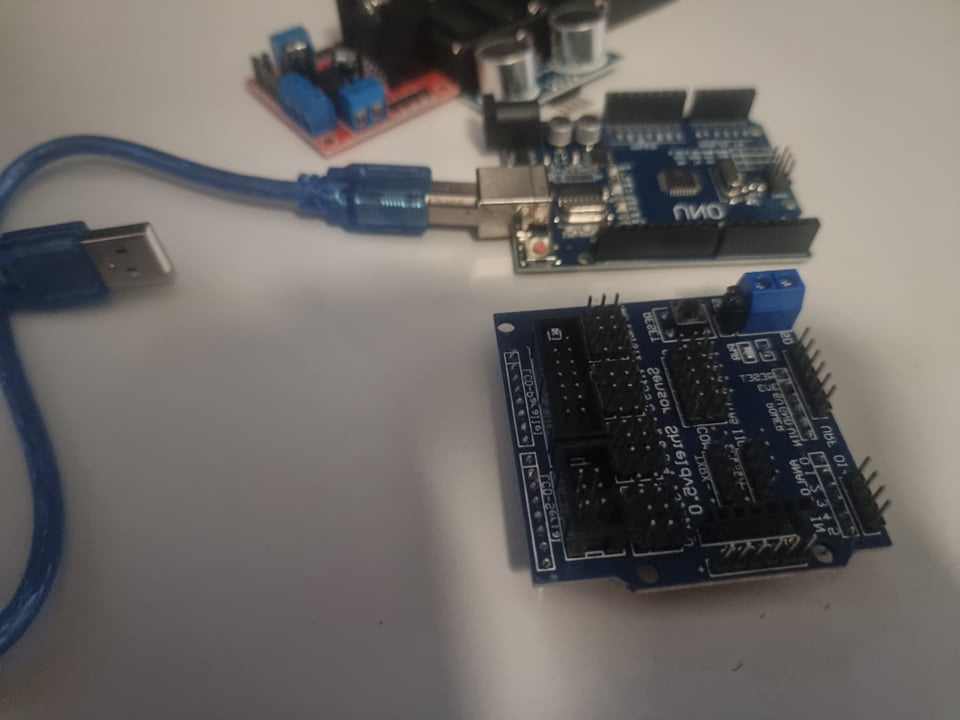5V EXPANSION: (494, 267, 896, 587)
MOTOR: (241, 2, 458, 157)
SENSOR: (469, 6, 633, 109)
UNO R3: (479, 81, 819, 275)
